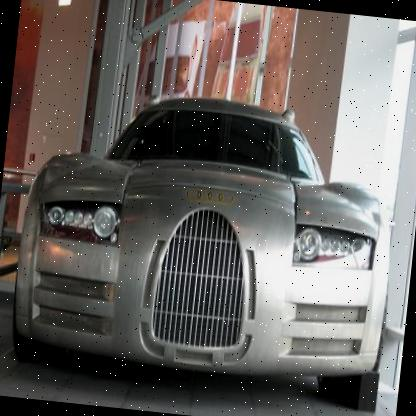car: (0, 74, 412, 408)
